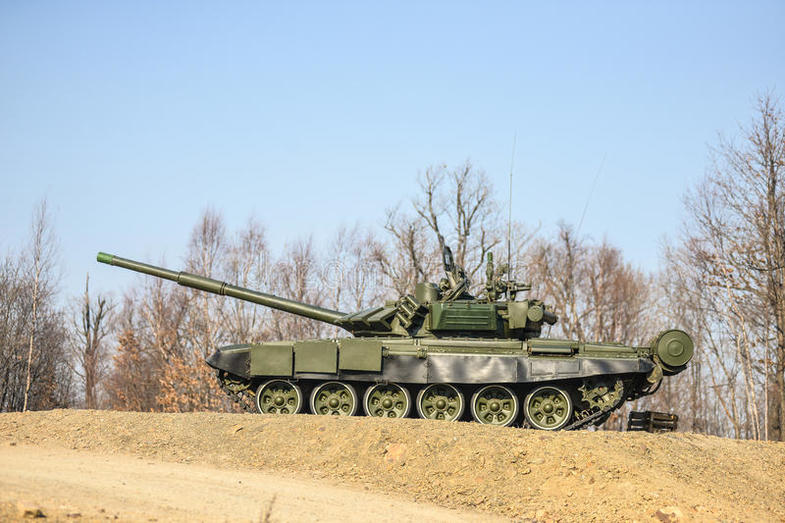t72: (92, 246, 671, 421)
